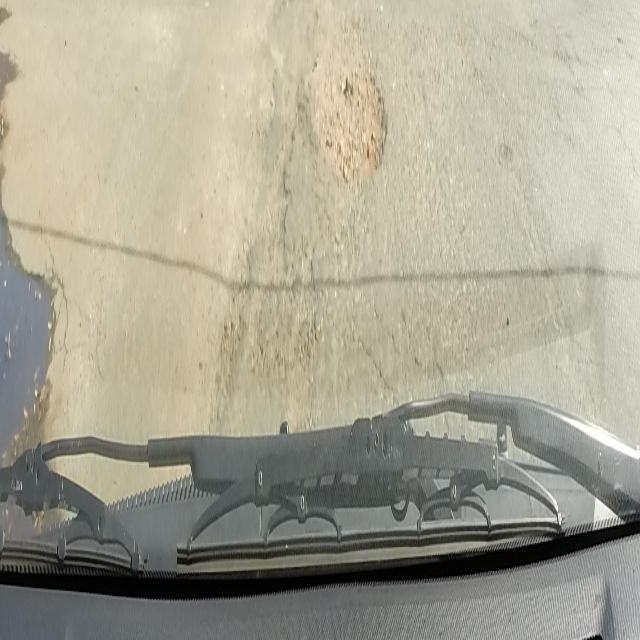pothole: (302, 55, 388, 188)
